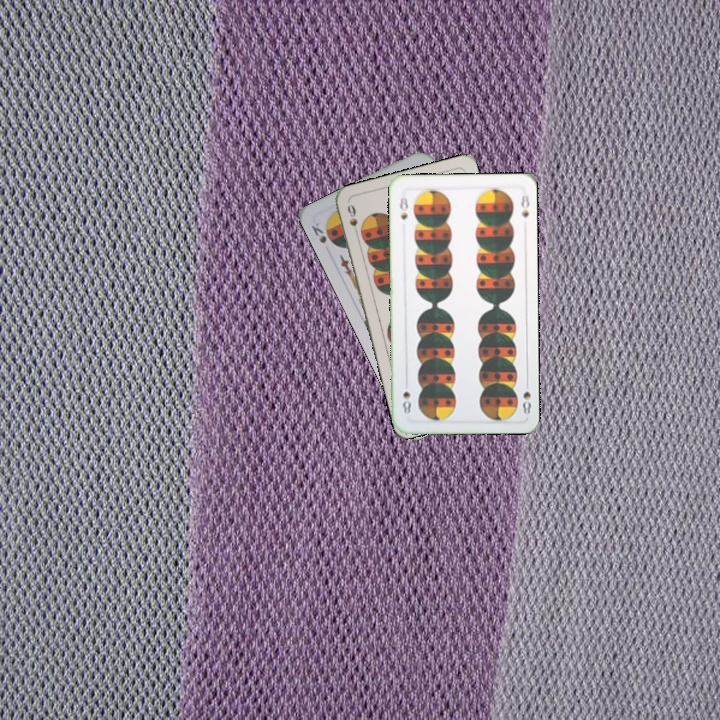S8: (519, 377, 534, 417), (396, 193, 411, 222)
S9: (343, 200, 362, 240)
SK: (307, 218, 329, 246)
